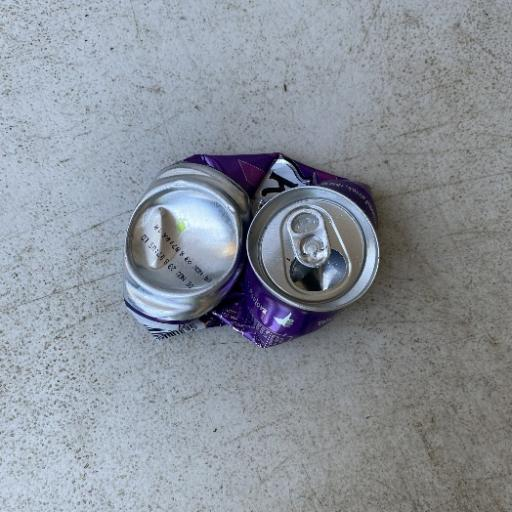Metal: (120, 149, 382, 350)
